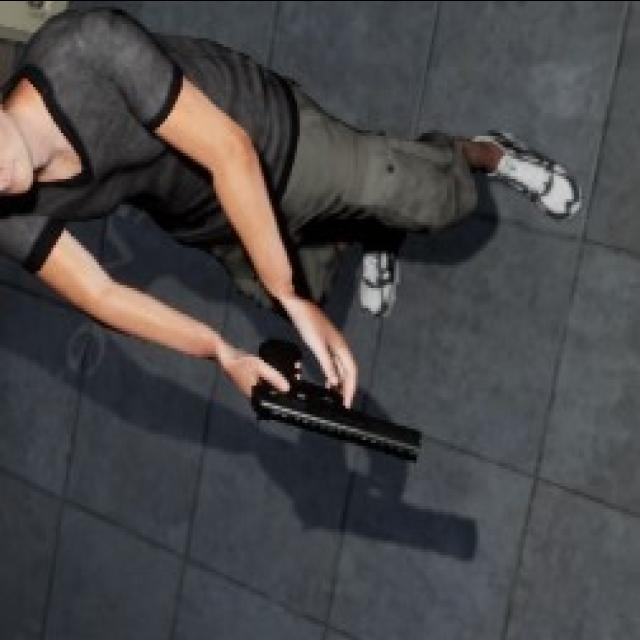pistol: (253, 334, 424, 462)
